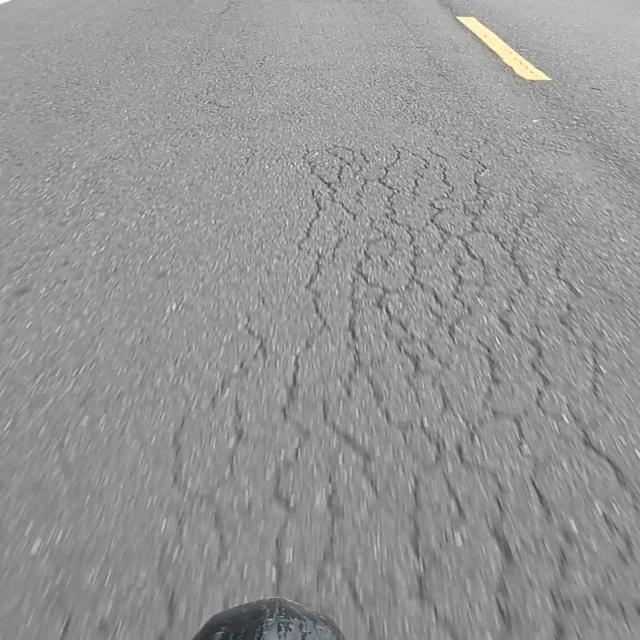Retak Buaya: (172, 161, 640, 640)
